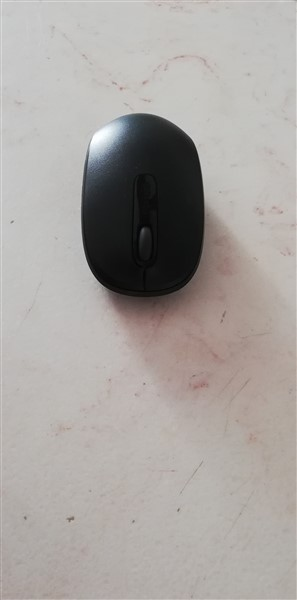mouse: (76, 108, 209, 305)
